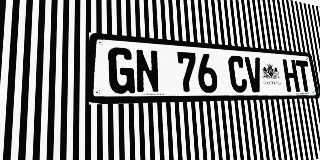6: (196, 53, 218, 93)
7: (175, 52, 199, 93)
C: (227, 55, 248, 92)
G: (108, 47, 135, 94)
H: (282, 59, 300, 92)
N: (135, 49, 160, 93)
T: (295, 60, 312, 92)
V: (244, 56, 264, 92)
